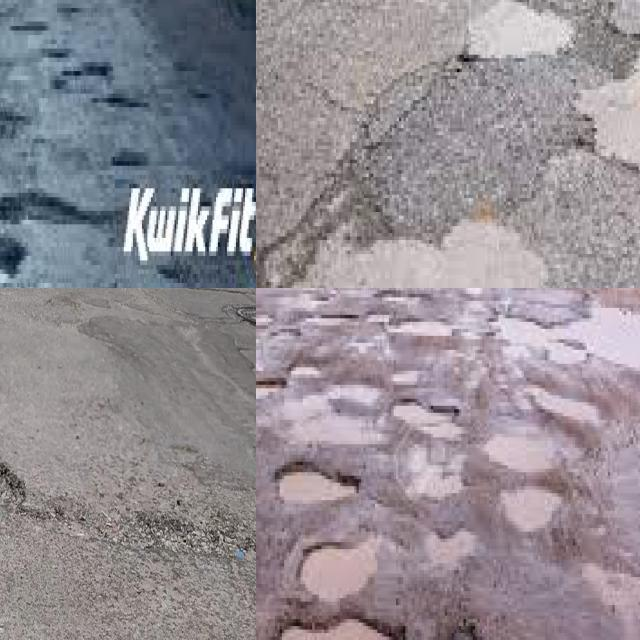Pothole: (301, 542, 375, 602), (273, 462, 359, 504), (0, 193, 102, 224), (501, 486, 559, 532), (484, 437, 545, 479), (396, 388, 461, 413), (285, 623, 380, 640), (256, 378, 284, 398)
